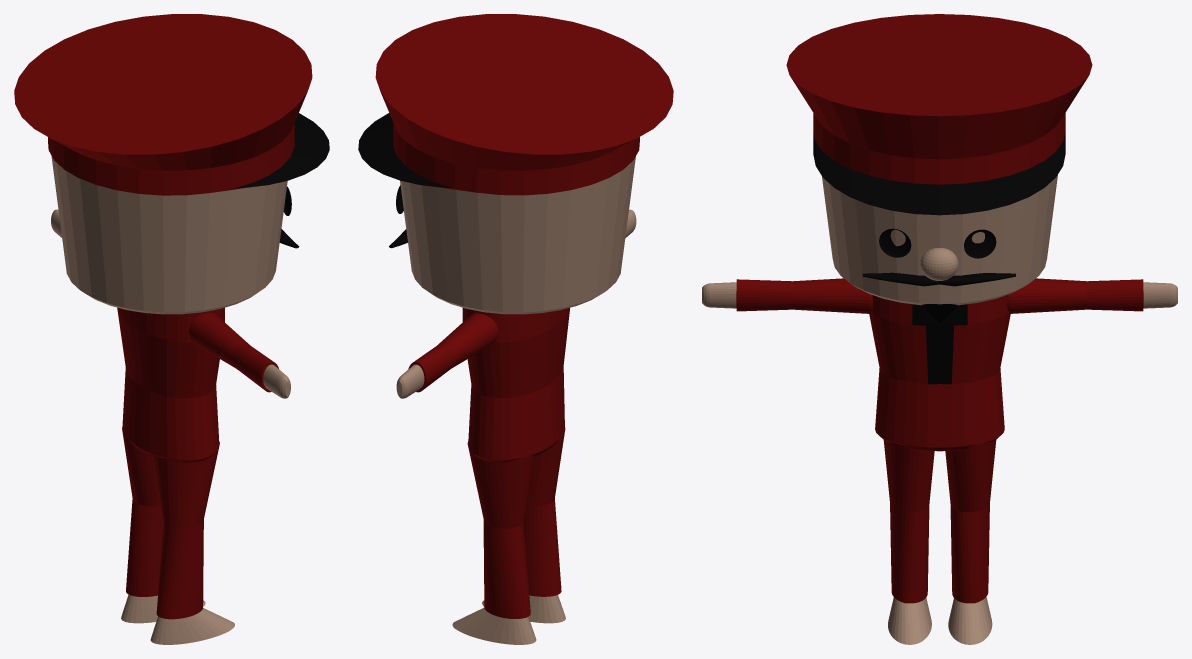
The model's file is red_goatee.fbx.
3 views of the same model, side by side, from view 1: azimuth 30°, elevation 25°; view 2: azimuth 150°, elevation 25°; view 3: azimuth 270°, elevation 25° (orthographic). The views are drawn at different scales.
Visible parts, largest first — view 1: Hat.001, Headd.002, Cylinder.049, Cylinder.052, Cylinder.053, Cylinder.050, Cylinder.047, Cylinder.038, Cylinder.055; view 2: Hat.001, Headd.002, Cylinder.049, Cylinder.053, Cylinder.052, Cylinder.051, Cylinder.038, Cylinder.047, Cylinder.056; view 3: Hat.001, Cylinder.049, Headd.002, Cylinder.053, Cylinder.052, Cylinder.051, Cylinder.050, Cylinder.038, Cylinder.047, Cylinder.014, Eyes.007, Sphere.002 (+2 smaller).
Part boxes in pixels (bbox=[...]): Hat.001: bbox=[14, 14, 329, 195]; Headd.002: bbox=[51, 155, 287, 314]; Cylinder.049: bbox=[117, 307, 224, 462]; Cylinder.052: bbox=[152, 442, 219, 619]; Cylinder.053: bbox=[122, 426, 163, 596]; Cylinder.050: bbox=[188, 313, 278, 392]; Cylinder.047: bbox=[150, 608, 234, 644]; Cylinder.038: bbox=[121, 594, 205, 623]; Cylinder.055: bbox=[263, 364, 290, 398]; Hat.001: bbox=[358, 14, 673, 195]; Headd.002: bbox=[400, 156, 635, 314]; Cylinder.049: bbox=[462, 308, 569, 462]; Cylinder.053: bbox=[467, 441, 534, 618]; Cylinder.052: bbox=[523, 427, 565, 596]; Cylinder.051: bbox=[408, 313, 498, 392]; Cylinder.038: bbox=[452, 608, 536, 644]; Cylinder.047: bbox=[482, 595, 565, 623]; Cylinder.056: bbox=[396, 364, 424, 398]; Hat.001: bbox=[786, 14, 1092, 215]; Cylinder.049: bbox=[869, 295, 1010, 451]; Headd.002: bbox=[822, 175, 1057, 305]; Cylinder.053: bbox=[945, 440, 996, 603]; Cylinder.052: bbox=[883, 440, 934, 603]; Cylinder.051: bbox=[1007, 278, 1143, 313]; Cylinder.050: bbox=[736, 278, 872, 313]; Cylinder.038: bbox=[948, 597, 992, 644]; Cylinder.047: bbox=[888, 597, 931, 644]; Cylinder.014: bbox=[862, 272, 1015, 286]; Eyes.007: bbox=[879, 228, 996, 258]; Sphere.002: bbox=[920, 248, 958, 280].
Size of the model in its own units: 239 by 453 by 346.
